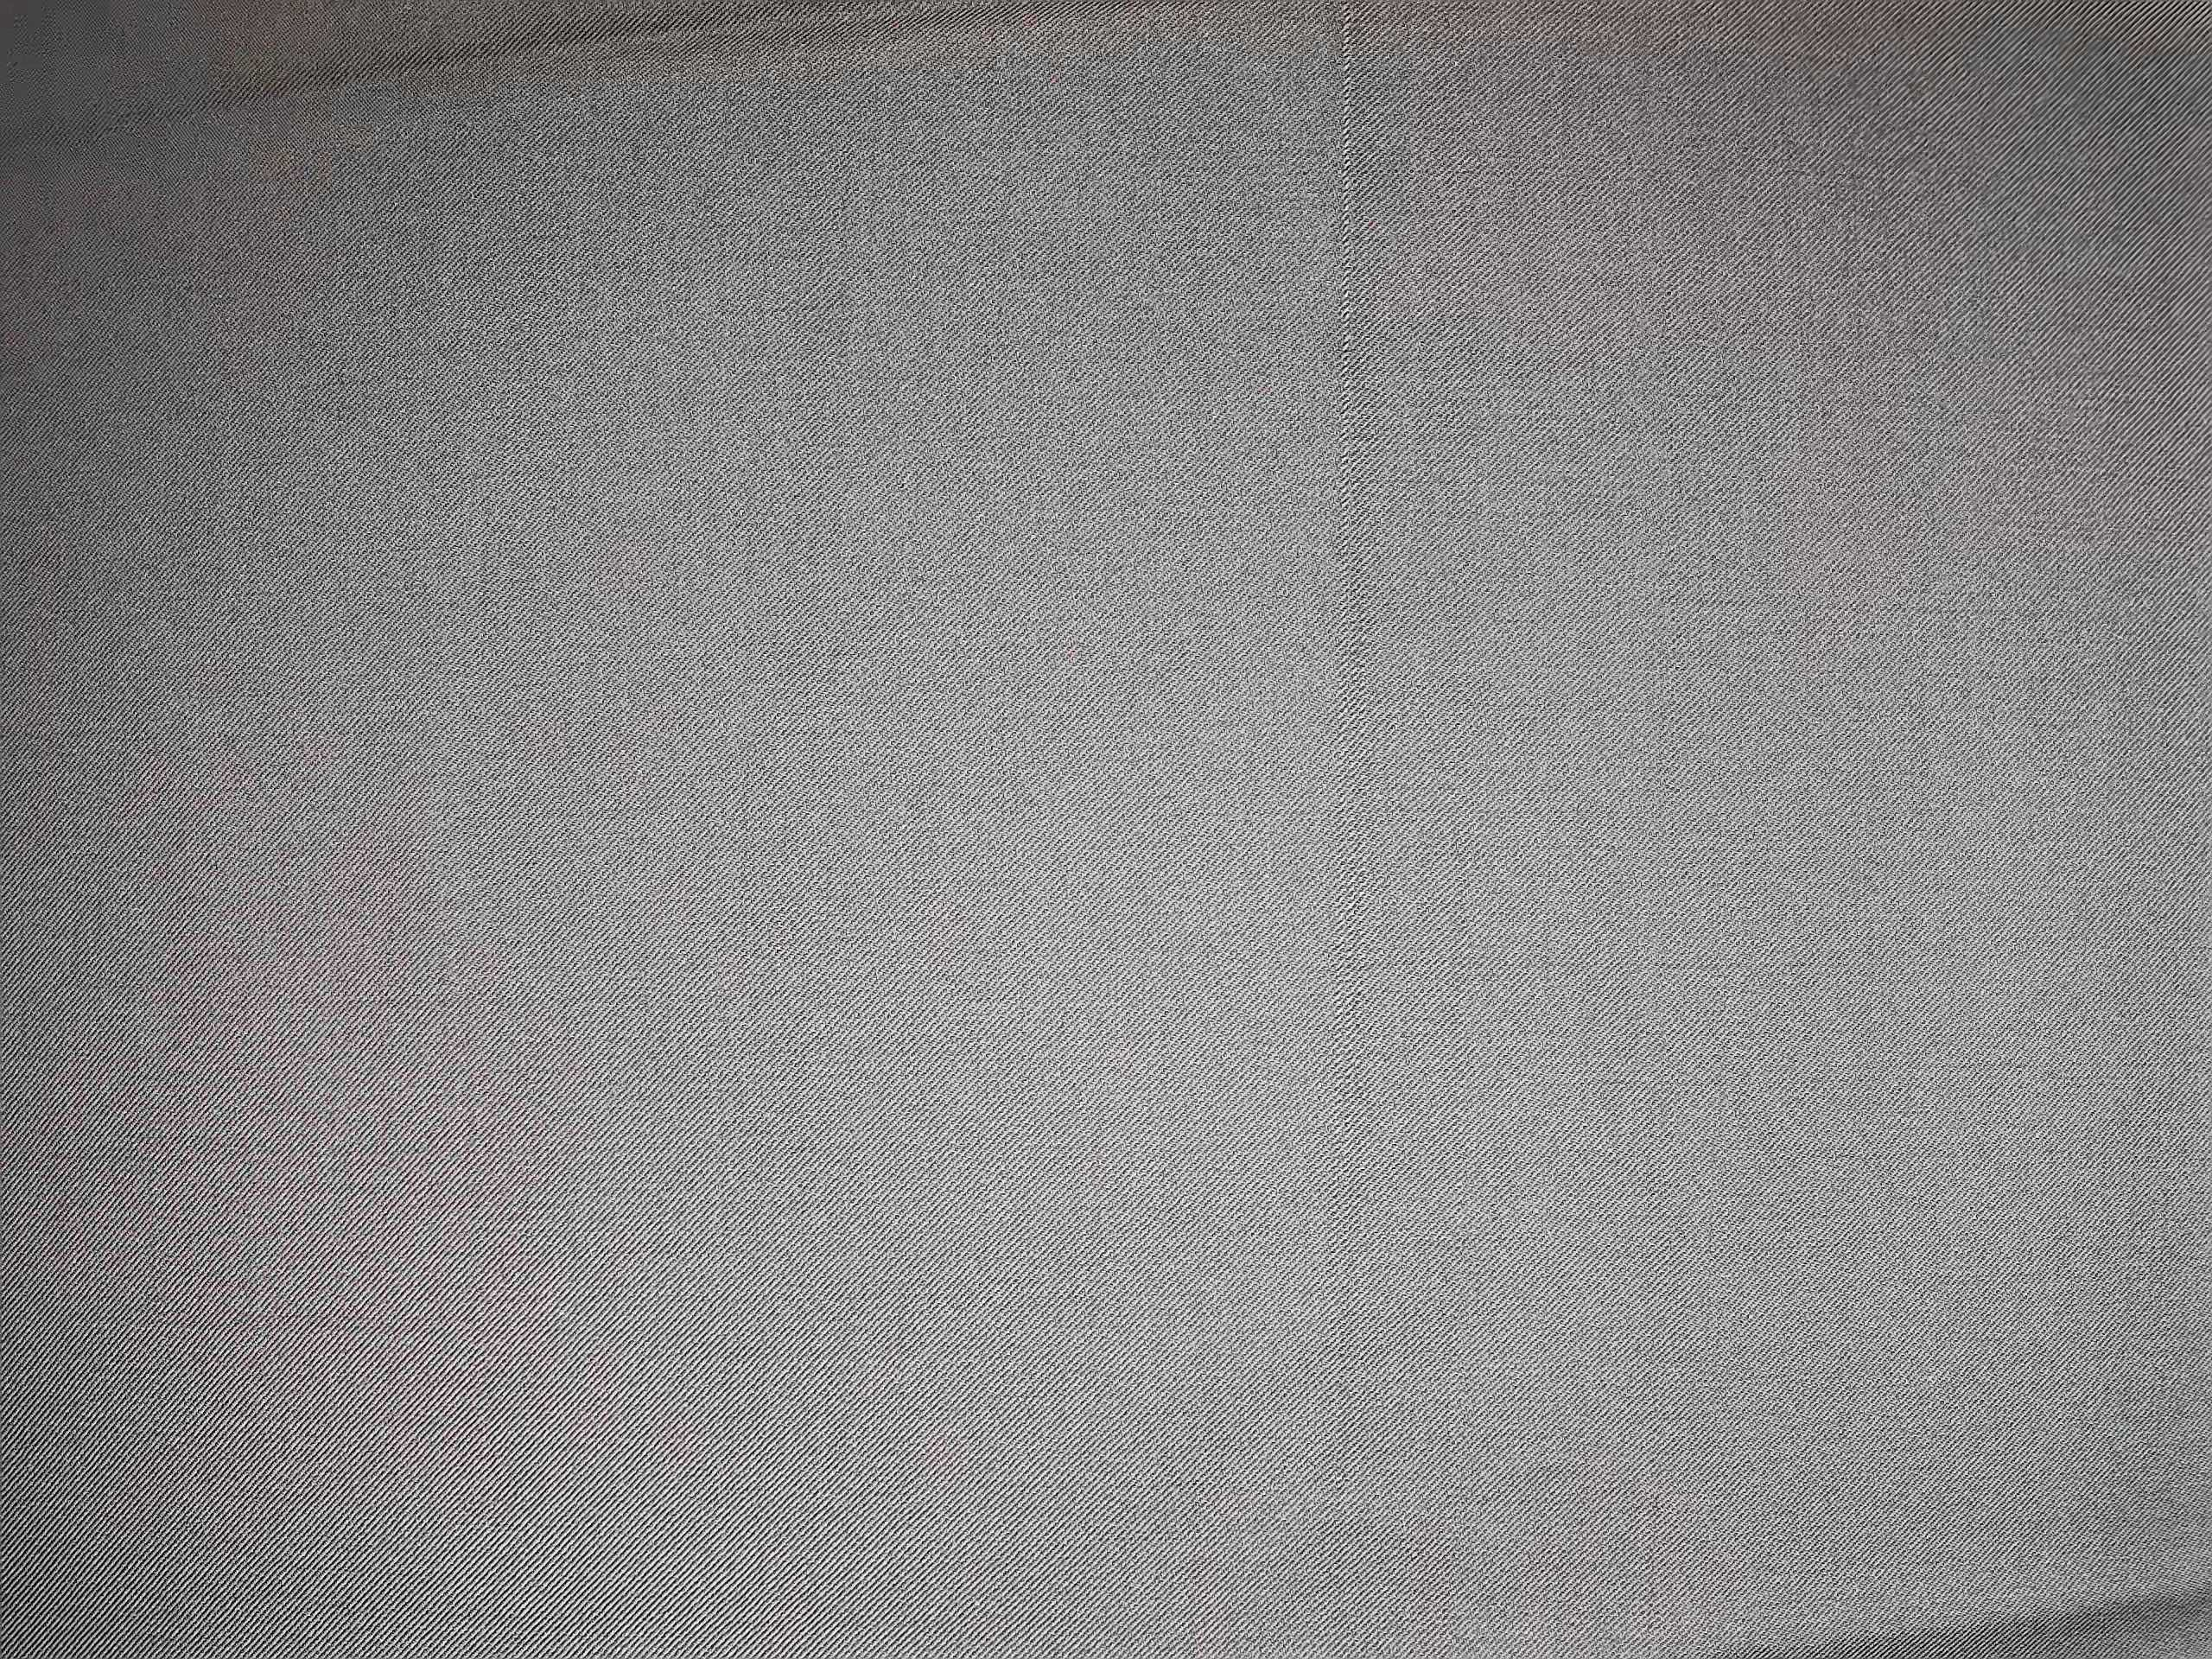others: (1318, 3, 1383, 1368)
